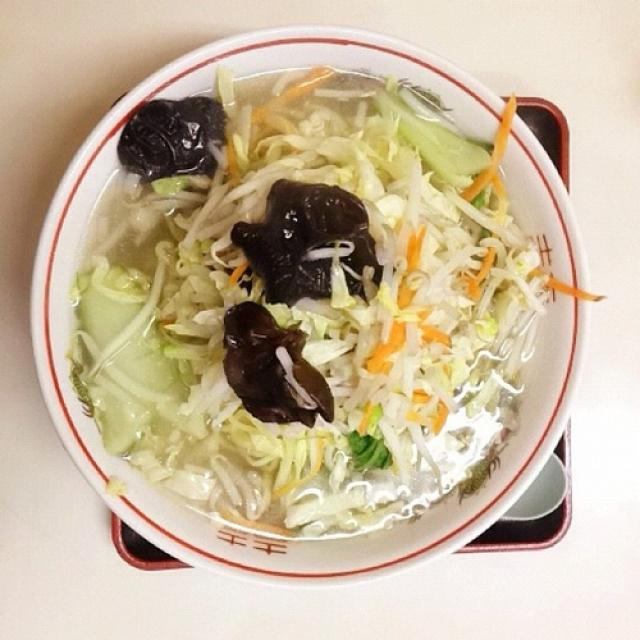面条主食: (36, 26, 581, 576)
